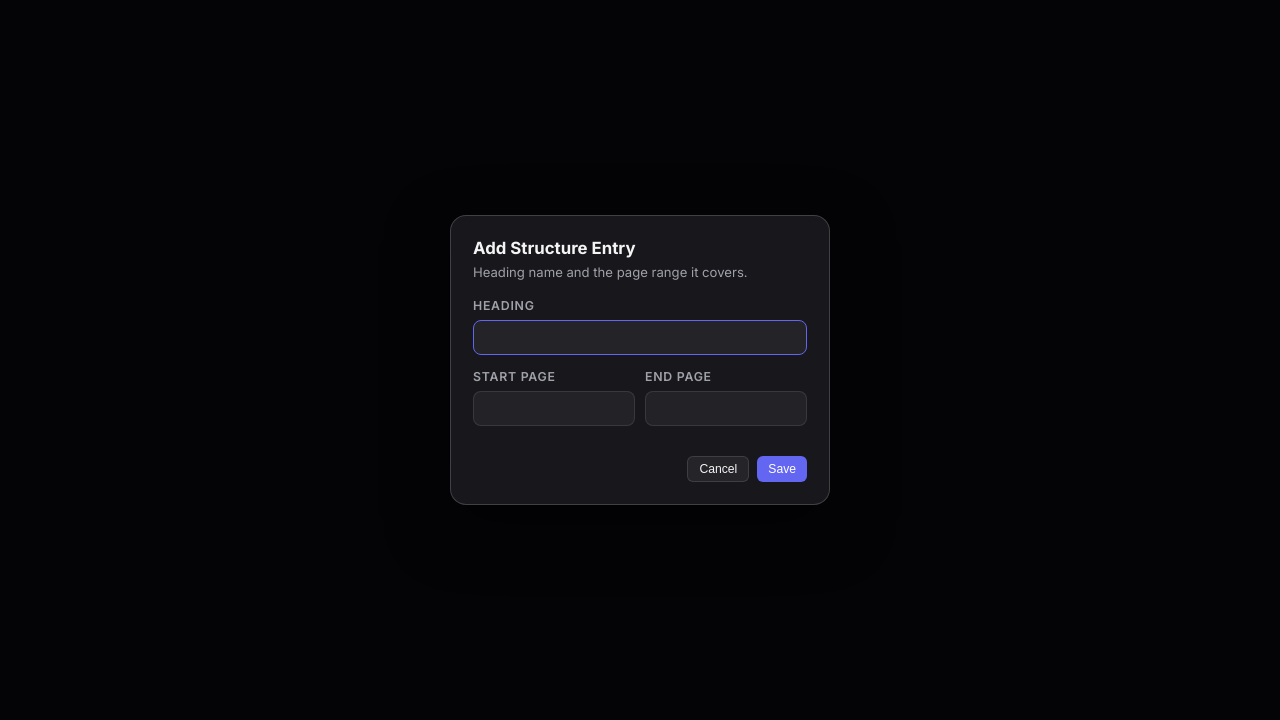
Test case: StructureItemModal › typing a start page mirrors it into end page until the reader edits end page themselves
Later steps or results of the test are not shown.
Type "12" into the number field with test id "structure-item-start-page-input" at [554, 408], box x1=473 y1=391 x2=635 y2=426
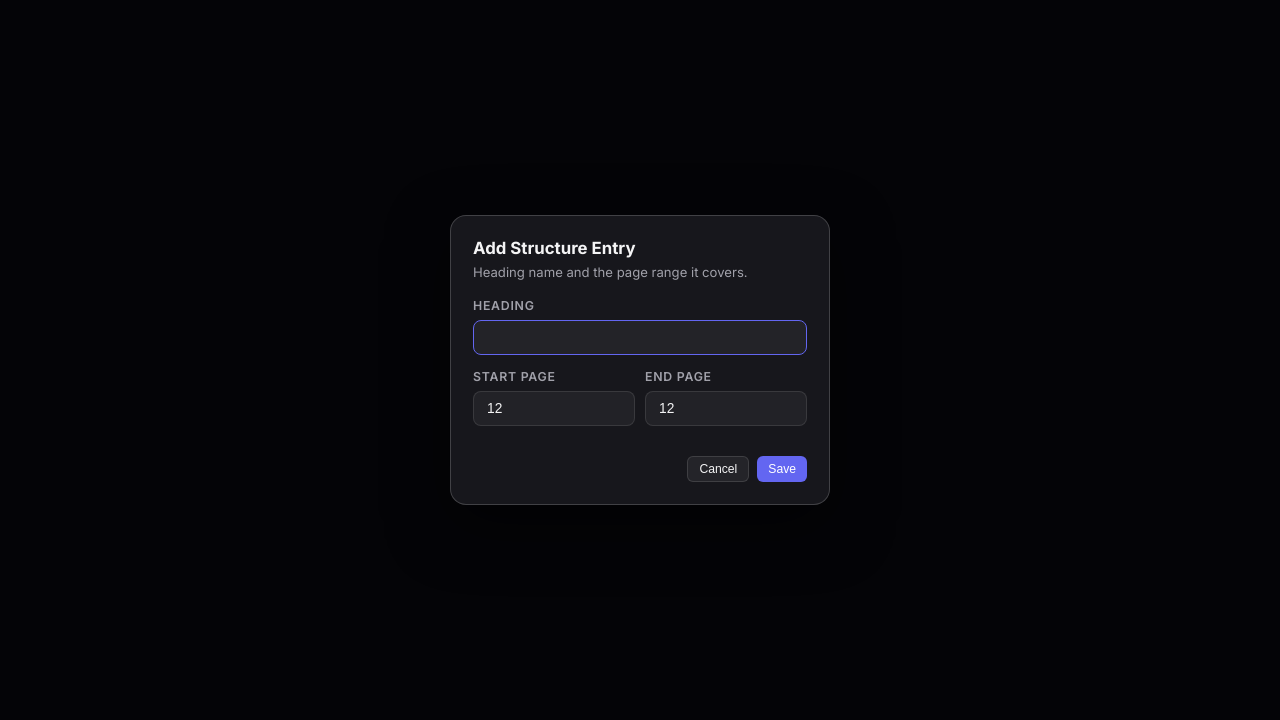
Check: the number field with test id "structure-item-end-page-input" holds "12", box x1=645 y1=391 x2=807 y2=426
